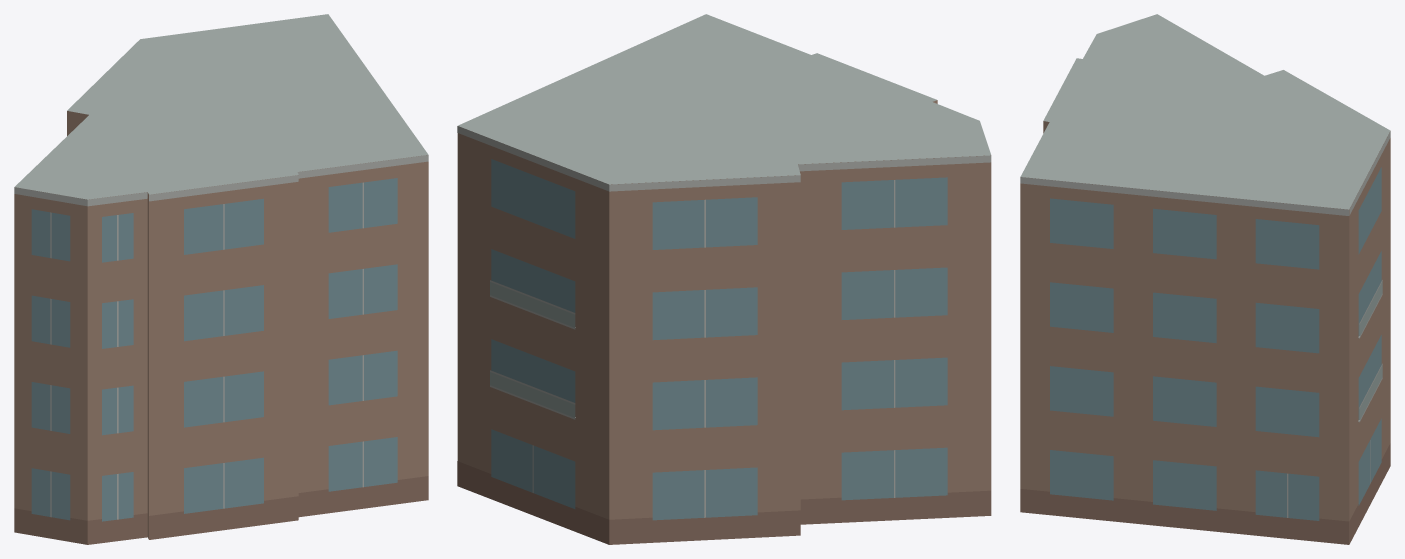
File: survey-upis-32659457.glb
The picture shows the model from 3 angles, left to right: view 1: azimuth 30°, elevation 25°; view 2: azimuth 150°, elevation 25°; view 3: azimuth 270°, elevation 25°; orthographic projection. The views are drawn at different scales.
Parts seen in each view (by area): view 1: survey-upis-32659457.tmp; view 2: survey-upis-32659457.tmp; view 3: survey-upis-32659457.tmp.
Boxes of the visible parts, box(x1,y1,x2,y2) form: survey-upis-32659457.tmp: box(14, 14, 428, 544); survey-upis-32659457.tmp: box(457, 14, 991, 544); survey-upis-32659457.tmp: box(1020, 14, 1390, 544).
Size of the model in its own units: 15.65 by 12.5 by 12.52.
